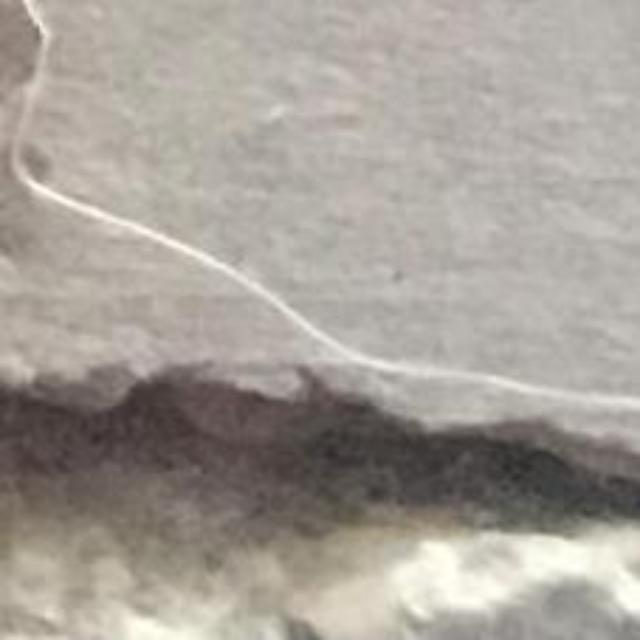crack: (0, 370, 639, 639)
